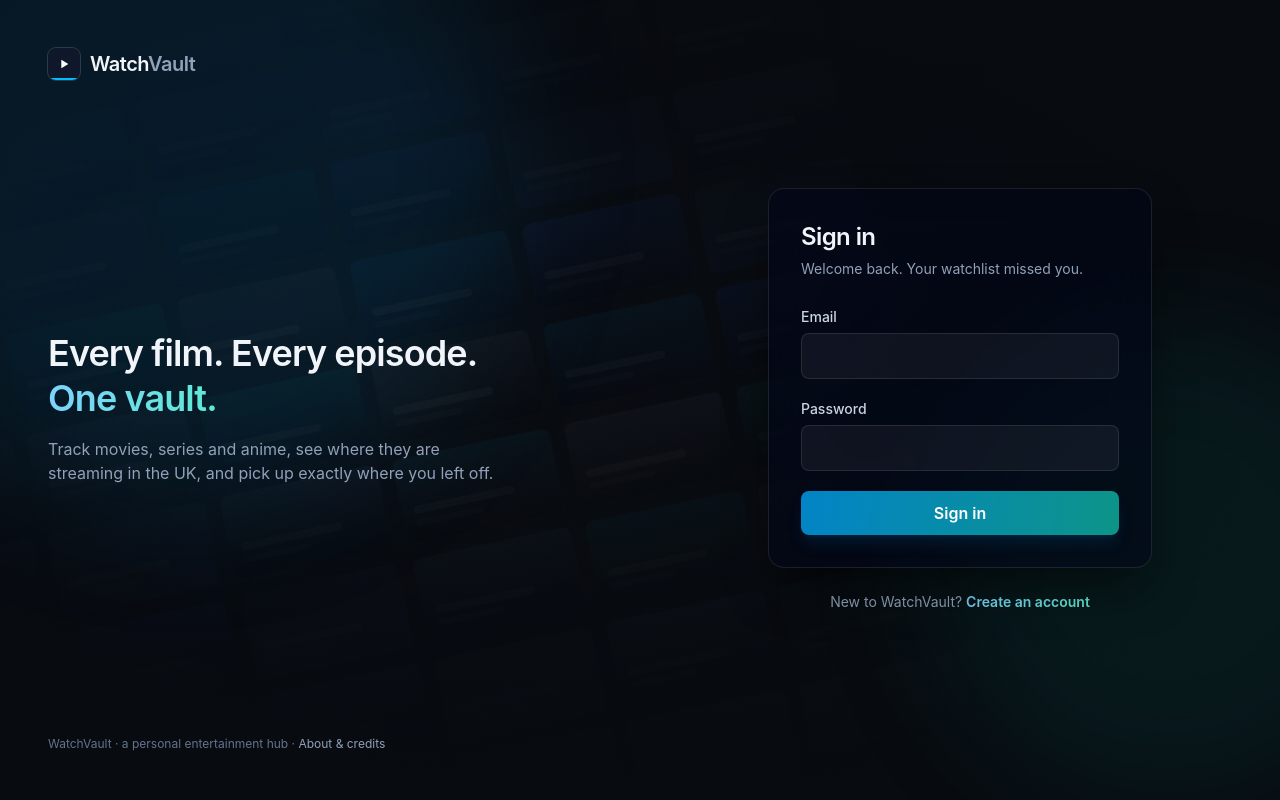
Test: login › shows the server's message for wrong credentials
The image size is (1280, 800).
In the field labelled "Email": x=960, y=356 [801,333,1119,379], type "alice@example.com"
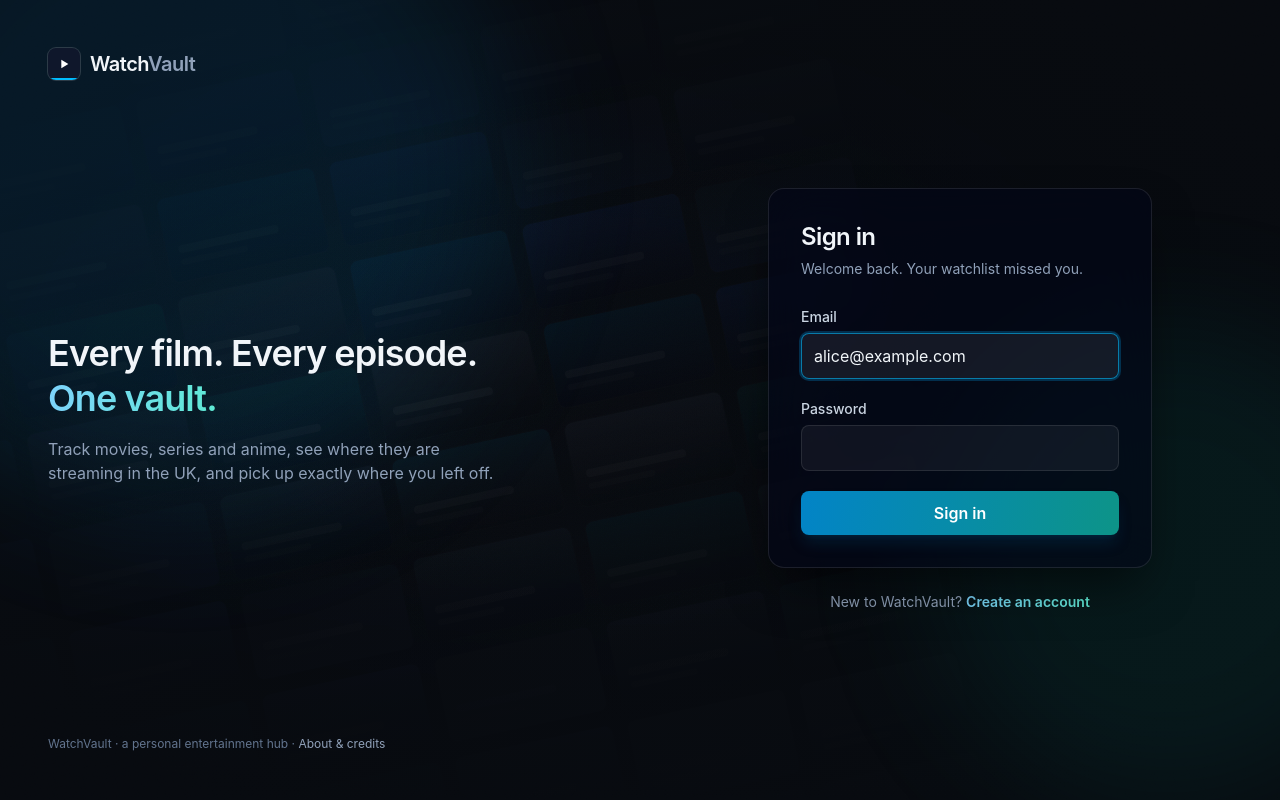
In the password field labelled "Password": x=960, y=448 [801,425,1119,471], type "wrong password"
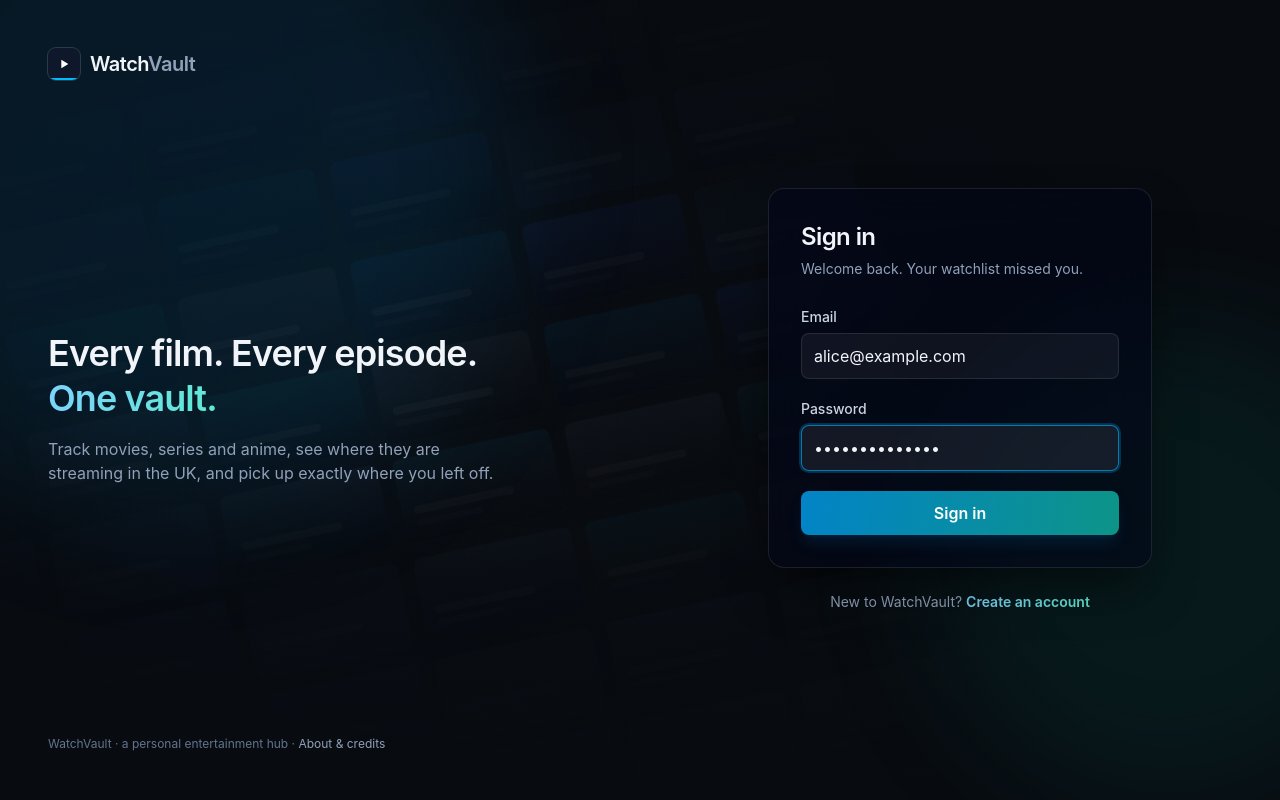
Click the button "Sign in": x=960, y=513 [801,491,1119,535]
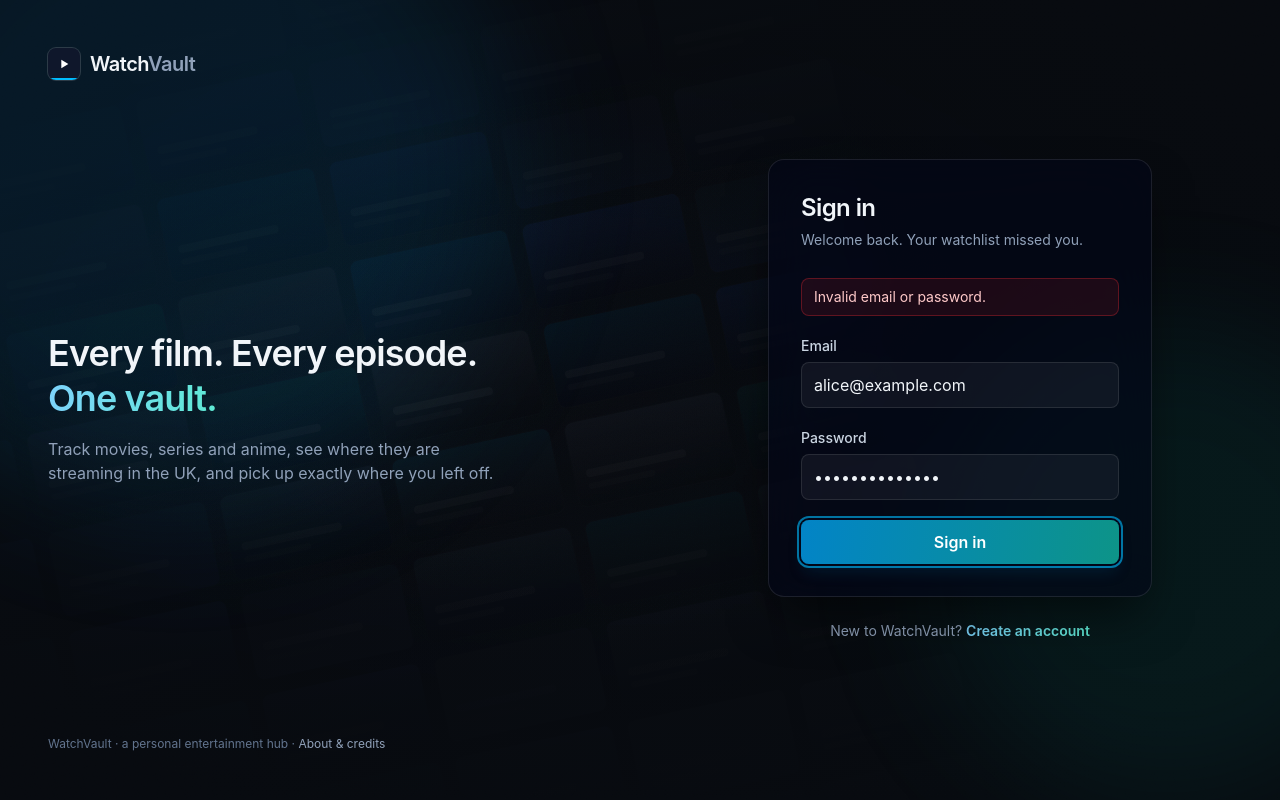
Check: the message reads "Invalid email or password.", box [814,288,986,305]
